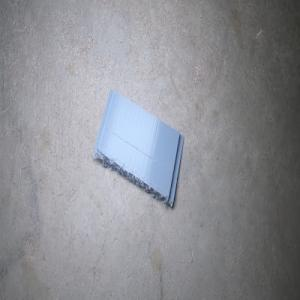PlasticPart: (91, 89, 184, 208)
